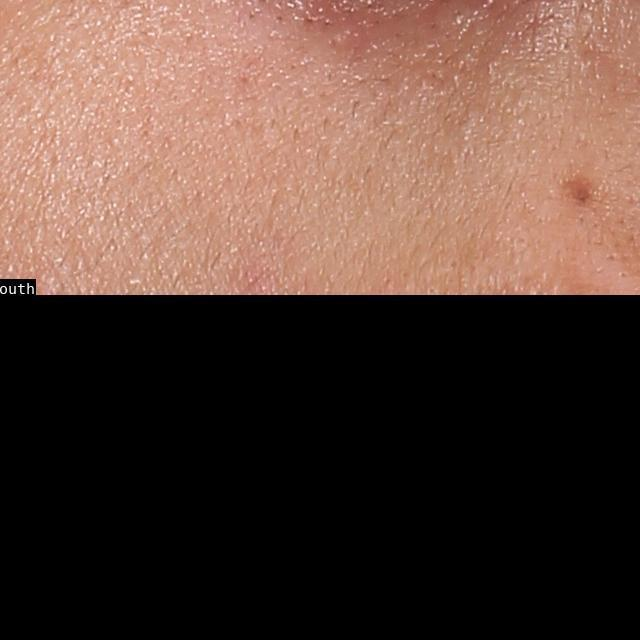nevus: (561, 171, 599, 207)
